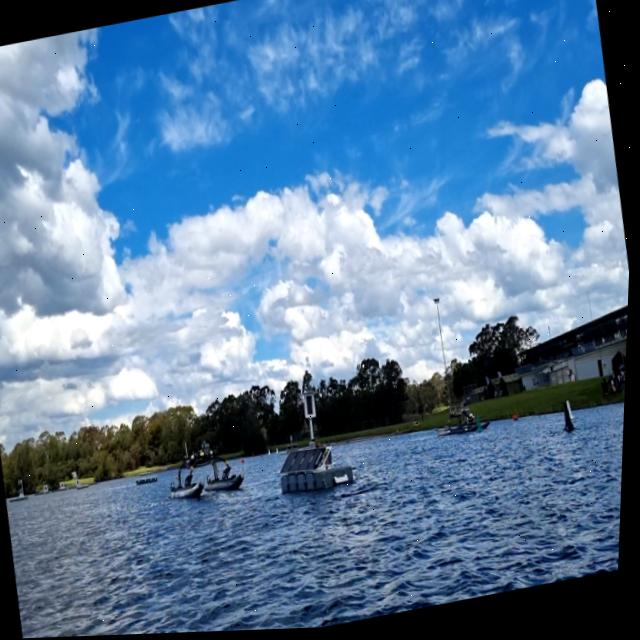led: (307, 396, 319, 420)
